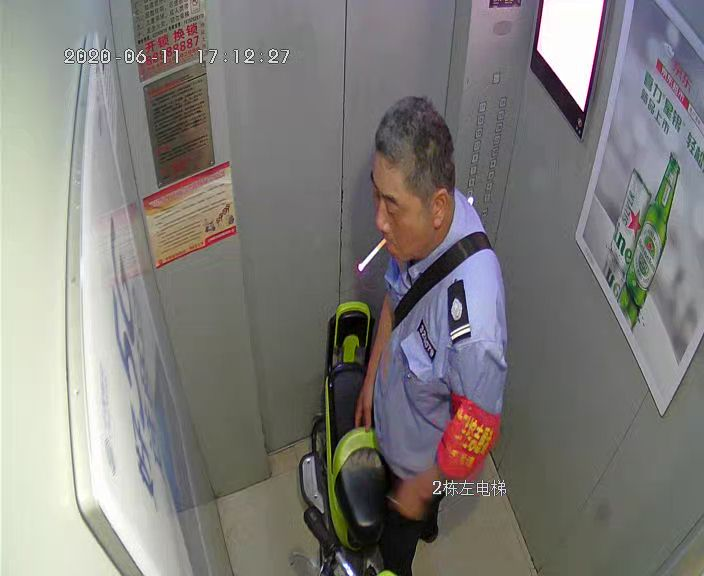Electric-bicycle: (299, 304, 399, 576)
